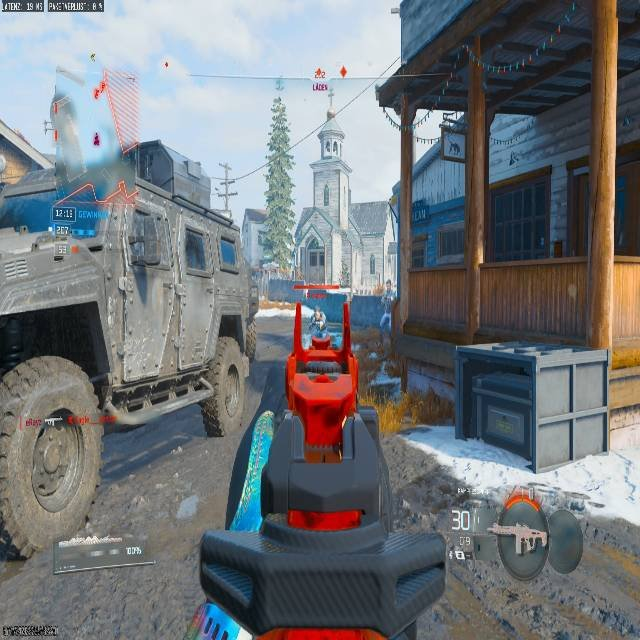player: (310, 308, 326, 334)
